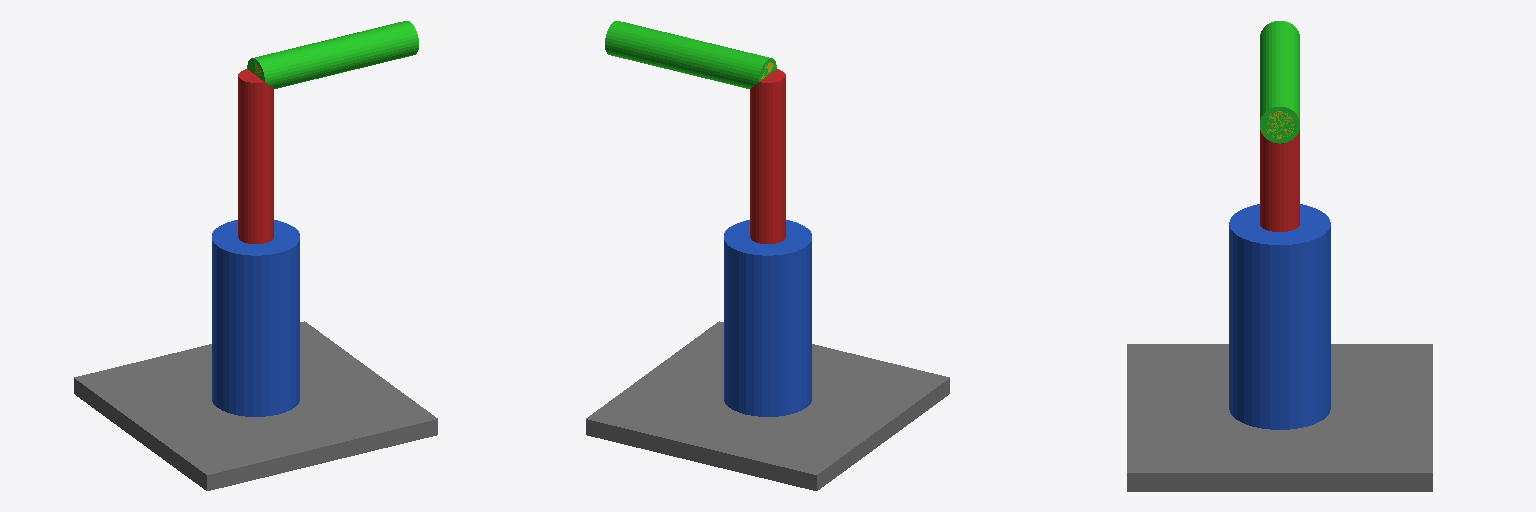
The robot description file, URDF, robot "robot_4dof":
<?xml version="1.0"?>
<robot name="robot_4dof">
  
  <!-- Base fija del robot -->
  <link name="base_link">
    <visual>
      <geometry>
        <box size="0.3 0.3 0.02"/>
      </geometry>
      <origin xyz="0 0 0.01" rpy="0 0 0"/>
      <material name="gray">
        <color rgba="0.5 0.5 0.5 1"/>
      </material>
    </visual>
    <collision>
      <geometry>
        <box size="0.3 0.3 0.02"/>
      </geometry>
      <origin xyz="0 0 0.01" rpy="0 0 0"/>
    </collision>
    <inertial>
      <mass value="1.0"/>
      <inertia ixx="0.01" ixy="0" ixz="0" iyy="0.01" iyz="0" izz="0.01"/>
    </inertial>
  </link>

  <!-- ESLABÓN 1: Revolute vertical (L1 = 0.2m) -->
  <link name="link1">
    <visual>
      <geometry>
        <cylinder radius="0.05" length="0.2"/>
      </geometry>
      <origin xyz="0 0 0.1" rpy="0 0 0"/>
      <material name="blue">
        <color rgba="0.2 0.4 0.8 1"/>
      </material>
    </visual>
    <collision>
      <geometry>
        <cylinder radius="0.05" length="0.2"/>
      </geometry>
      <origin xyz="0 0 0.1" rpy="0 0 0"/>
    </collision>
    <inertial>
      <mass value="0.5"/>
      <origin xyz="0 0 0.1" rpy="0 0 0"/>
      <inertia ixx="0.002" ixy="0" ixz="0" iyy="0.002" iyz="0" izz="0.001"/>
    </inertial>
  </link>

  <!-- Articulación 1: Revolute en Z (θ1) -->
  <joint name="joint1" type="revolute">
    <parent link="base_link"/>
    <child link="link1"/>
    <origin xyz="0 0 0.02" rpy="0 0 0"/>
    <axis xyz="0 0 1"/>
    <limit lower="-3.14159" upper="3.14159" effort="10" velocity="1.0"/>
  </joint>

  <!-- ESLABÓN 2: Prismático (L2 = 0.2m inicial, puede extenderse) -->
  <link name="link2">
    <visual>
      <geometry>
        <cylinder radius="0.02" length="0.4"/>
      </geometry>
      <origin xyz="0 0 0" rpy="0 0 0"/>
      <material name="red">
        <color rgba="0.8 0.2 0.2 1"/>
      </material>
    </visual>
    <collision>
      <geometry>
        <cylinder radius="0.02" length="0.4"/>
      </geometry>
      <origin xyz="0 0 0" rpy="0 0 0"/>
    </collision>
    <inertial>
      <mass value="0.3"/>
      <origin xyz="0 0 0" rpy="0 0 0"/>
      <inertia ixx="0.004" ixy="0" ixz="0" iyy="0.004" iyz="0" izz="0.0001"/>
    </inertial>
  </link>

  <!-- Articulación 2: Prismática en Z (d2) -->
  <joint name="joint2" type="prismatic">
    <parent link="link1"/>
    <child link="link2"/>
    <origin xyz="0 0 0.2" rpy="0 0 0"/>
    <axis xyz="0 0 1"/>
    <limit lower="0" upper="0.2" effort="50" velocity="0.5"/>
  </joint>

  <!-- ESLABÓN 3: Soporte horizontal fijo (L3 = 0.2m) -->
  <link name="link3">
    <visual>
      <geometry>
        <cylinder radius="0.02" length="0.2"/>
      </geometry>
      <origin xyz="0.1 0 0" rpy="0 1.5708 0"/>
      <material name="green">
        <color rgba="0.2 0.8 0.2 1"/>
      </material>
    </visual>
    <collision>
      <geometry>
        <cylinder radius="0.02" length="0.2"/>
      </geometry>
      <origin xyz="0.1 0 0" rpy="0 1.5708 0"/>
    </collision>
    <inertial>
      <mass value="0.2"/>
      <origin xyz="0.1 0 0" rpy="0 1.5708 0"/>
      <inertia ixx="0.0007" ixy="0" ixz="0" iyy="0.0007" iyz="0" izz="0.0001"/>
    </inertial>
  </link>

  <!-- Articulación 3: Fixed (no rota, solo soporte) -->
  <joint name="joint3" type="fixed">
    <parent link="link2"/>
    <child link="link3"/>
    <origin xyz="0 0 0.2" rpy="0 0 0"/>
  </joint>

  <!-- ESLABÓN 4: Prismático que sale del eslabón 3 -->
  <link name="link4">
    <visual>
      <geometry>
        <cylinder radius="0.015" length="0.2"/>
      </geometry>
      <origin xyz="0.1 0 0" rpy="0 1.5708 0"/>
      <material name="yellow">
        <color rgba="0.8 0.8 0.2 1"/>
      </material>
    </visual>
    <collision>
      <geometry>
        <cylinder radius="0.015" length="0.2"/>
      </geometry>
      <origin xyz="0.1 0 0" rpy="0 1.5708 0"/>
    </collision>
    <inertial>
      <mass value="0.15"/>
      <origin xyz="0.1 0 0" rpy="0 1.5708 0"/>
      <inertia ixx="0.0005" ixy="0" ixz="0" iyy="0.0005" iyz="0" izz="0.00005"/>
    </inertial>
  </link>

  <!-- Articulación 4: Prismática en X (d4) - Inicia dentro del eslabón 3 -->
  <joint name="joint4" type="prismatic">
    <parent link="link3"/>
    <child link="link4"/>
    <origin xyz="0 0 0" rpy="0 0 0"/>
    <axis xyz="1 0 0"/>
    <limit lower="0" upper="0.4" effort="20" velocity="0.3"/>
  </joint>

</robot>

--- Render facts (derived) ---
3 views of the same robot in one strip: view 1: azimuth 30°, elevation 25°; view 2: azimuth 150°, elevation 25°; view 3: azimuth 270°, elevation 25° (orthographic).
Robot: robot_4dof — 5 links, 4 joints (1 revolute, 2 prismatic, 1 fixed); root link base_link; default pose: every joint at zero.
Links seen in each view (by area): view 1: base_link, link1, link2, link3; view 2: base_link, link1, link2, link3; view 3: base_link, link1, link3, link2.
Boxes of the visible links, x1,y1,x2,y2 form: base_link: (74,321,437,490); link1: (212,220,299,416); link2: (238,69,273,243); link3: (247,21,418,88); base_link: (586,321,949,490); link1: (724,220,811,416); link2: (750,69,785,243); link3: (605,21,776,88); base_link: (1127,344,1432,491); link1: (1229,204,1330,429); link3: (1260,21,1299,143); link2: (1260,130,1299,231).
Size in the robot's own frame: 0.35 by 0.3 by 0.44 metres.
Geometry: primitives only (box / cylinder / sphere), no mesh files.
